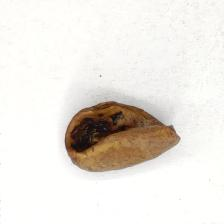NG: (65, 101, 179, 154)
